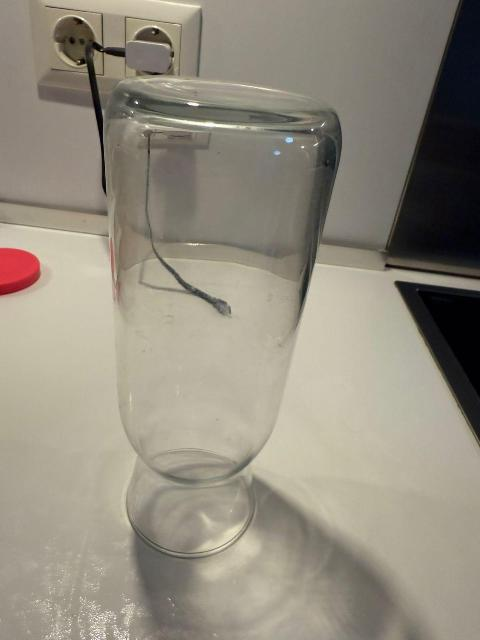Cam: (106, 78, 342, 557)
